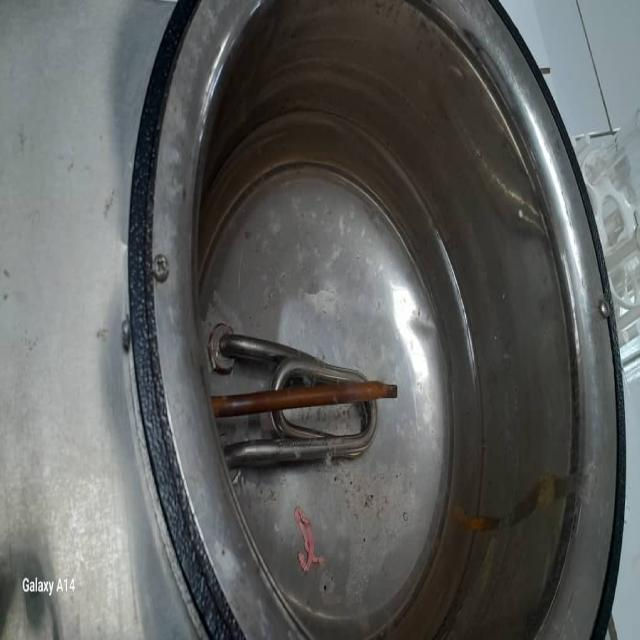Water-Oil Bath: (130, 59, 544, 627)
